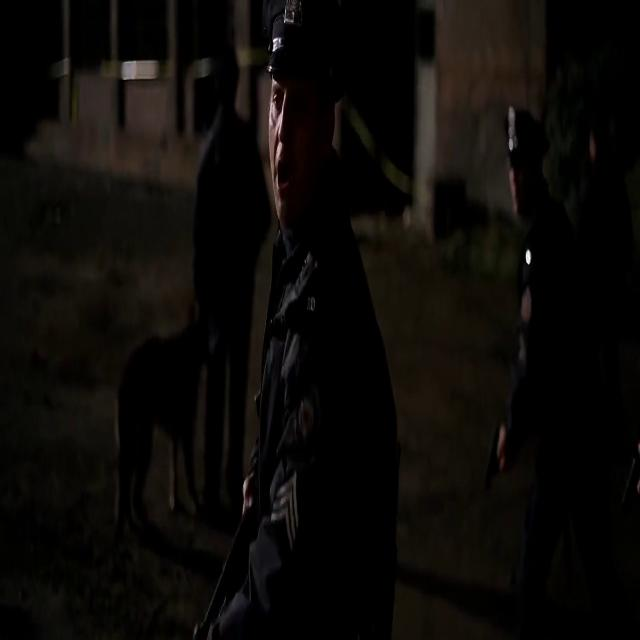People: (260, 0, 386, 605), (461, 73, 586, 513), (206, 23, 259, 296)
dog: (115, 298, 229, 533)
